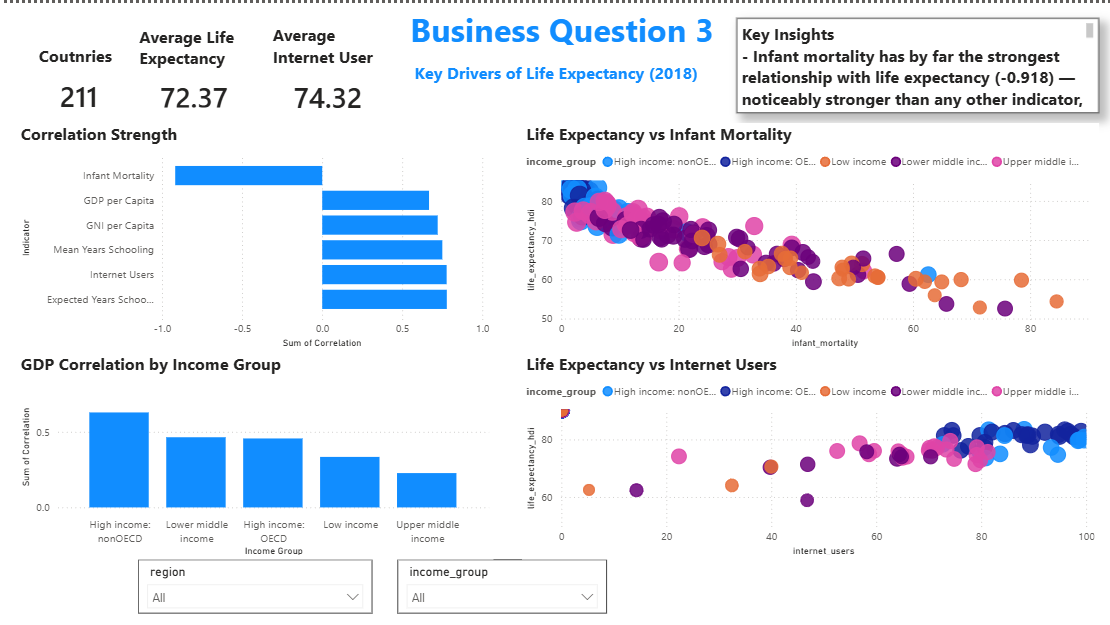

Layout of this report page (visuals, bound fields, positions):
{"tool":"powerbi","page":{"name":"Business Question 3","canvas":[1280,720],"ordinal":3},"visuals":[{"type":"textbox","box":[11.7,0,1268.6,62.8],"z":0},{"type":"textbox","box":[5.8,62.8,1268.6,38],"z":1000},{"type":"slicer","fields":{"Values":["world_economic_indicators dim_country.region"]},"box":[159,640.5,269.5,62.1],"z":2000},{"type":"slicer","fields":{"Values":["world_economic_indicators dim_country.income_group"]},"box":[457.3,640.5,240.8,62.1],"z":3000},{"type":"textbox","box":[846.4,16.7,416.4,109],"z":4000},{"type":"cardVisual","title":"Coutnries","fields":{"Data":["Count(world_economic_indicators dim_country.country_name)"]},"box":[39.4,48.5,116.6,89.3],"z":5000},{"type":"cardVisual","title":"Average Life Expectancy ","fields":{"Data":["Avg(world_economic_indicators fact_country_year.life_expectancy_hdi)"]},"box":[156,25.7,148.4,112.1],"z":6000},{"type":"cardVisual","title":"Average Internet User","fields":{"Data":["Avg(world_economic_indicators fact_country_year.internet_users)"]},"box":[308.9,24.2,148.4,115.1],"z":7000},{"type":"clusteredBarChart","title":"Correlation Strength","fields":{"Category":["Correlation_Table.Indicator"],"Y":["Sum(Correlation_Table.Correlation)"]},"box":[19.7,137.8,548.1,263.5],"z":8000},{"type":"scatterChart","title":"Life Expectancy vs Infant Mortality","fields":{"Y":["world_economic_indicators fact_country_year.life_expectancy_hdi"],"X":["world_economic_indicators fact_country_year.infant_mortality"],"Series":["world_economic_indicators dim_country.income_group"],"Size":["Avg(world_economic_indicators fact_country_year.hdi)"]},"box":[599.6,137.8,663.2,263.5],"z":9000},{"type":"scatterChart","title":"Life Expectancy vs Internet Users","fields":{"X":["world_economic_indicators fact_country_year.internet_users"],"Y":["world_economic_indicators fact_country_year.life_expectancy_hdi"],"Series":["world_economic_indicators dim_country.income_group"],"Size":["Avg(world_economic_indicators fact_country_year.hdi)"]},"box":[599.6,401.3,663.2,237.7],"z":10000},{"type":"clusteredColumnChart","title":"GDP Correlation by Income Group","fields":{"Category":["GDP_Correlation_By_IncomeGroup.Income Group"],"Y":["Sum(GDP_Correlation_By_IncomeGroup.Correlation)"]},"box":[19.7,401.3,548.1,237.7],"z":11000}]}

Visuals, with their boxes in screenshot pixels (x1, y1, x2, y2), scaled from the page's 1280x720 canvas onto the 1110x625 screenshot:
textbox: <box>10,0,1109,55</box>
textbox: <box>5,55,1105,88</box>
slicer - world_economic_indicators dim_country.region: <box>138,556,372,610</box>
slicer - world_economic_indicators dim_country.income_group: <box>397,556,605,610</box>
textbox: <box>734,14,1095,109</box>
"Coutnries" cardVisual: <box>34,42,135,120</box>
"Average Life Expectancy " cardVisual: <box>135,22,264,120</box>
"Average Internet User" cardVisual: <box>268,21,397,121</box>
"Correlation Strength" clusteredBarChart: <box>17,120,492,348</box>
"Life Expectancy vs Infant Mortality" scatterChart: <box>520,120,1095,348</box>
"Life Expectancy vs Internet Users" scatterChart: <box>520,348,1095,555</box>
"GDP Correlation by Income Group" clusteredColumnChart: <box>17,348,492,555</box>
